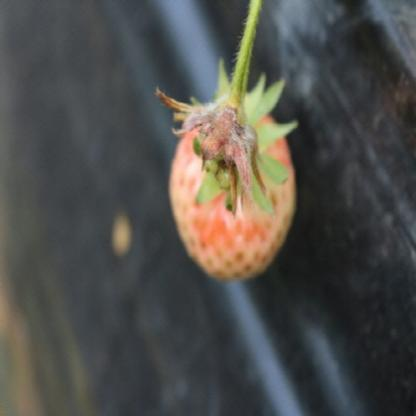Strawberry_Gray_Mold: (155, 89, 272, 220)
